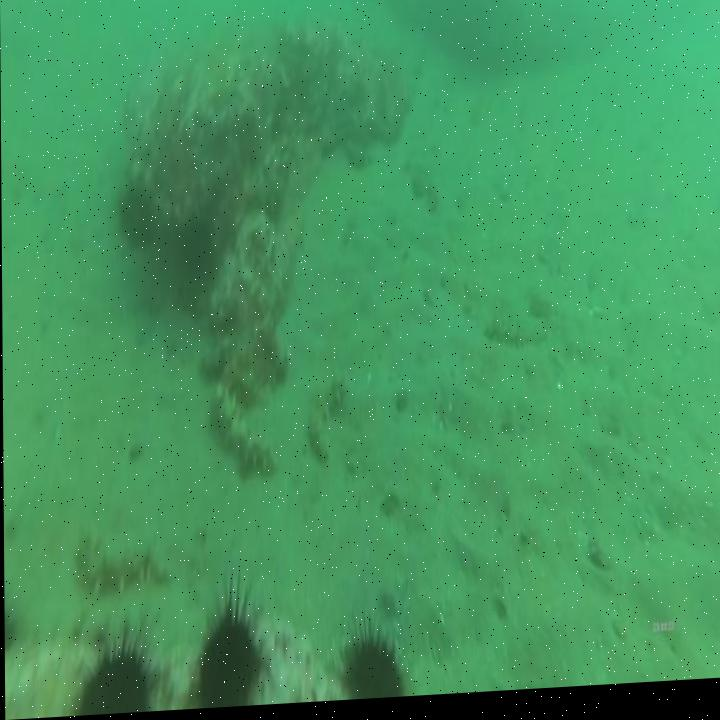echinus: (186, 574, 270, 711), (75, 610, 162, 717), (333, 605, 410, 705), (116, 182, 155, 258)
holothurian: (75, 522, 168, 603), (210, 380, 274, 488), (303, 379, 351, 475)
